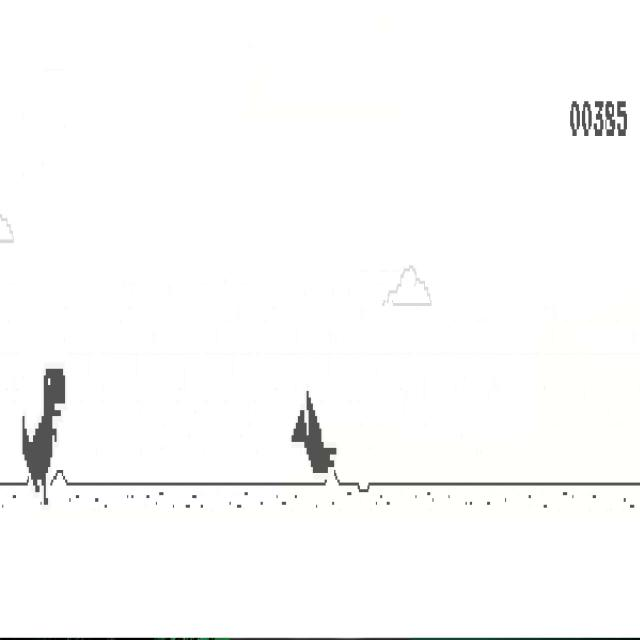dino: (22, 369, 66, 506)
ptero: (291, 389, 337, 474)
